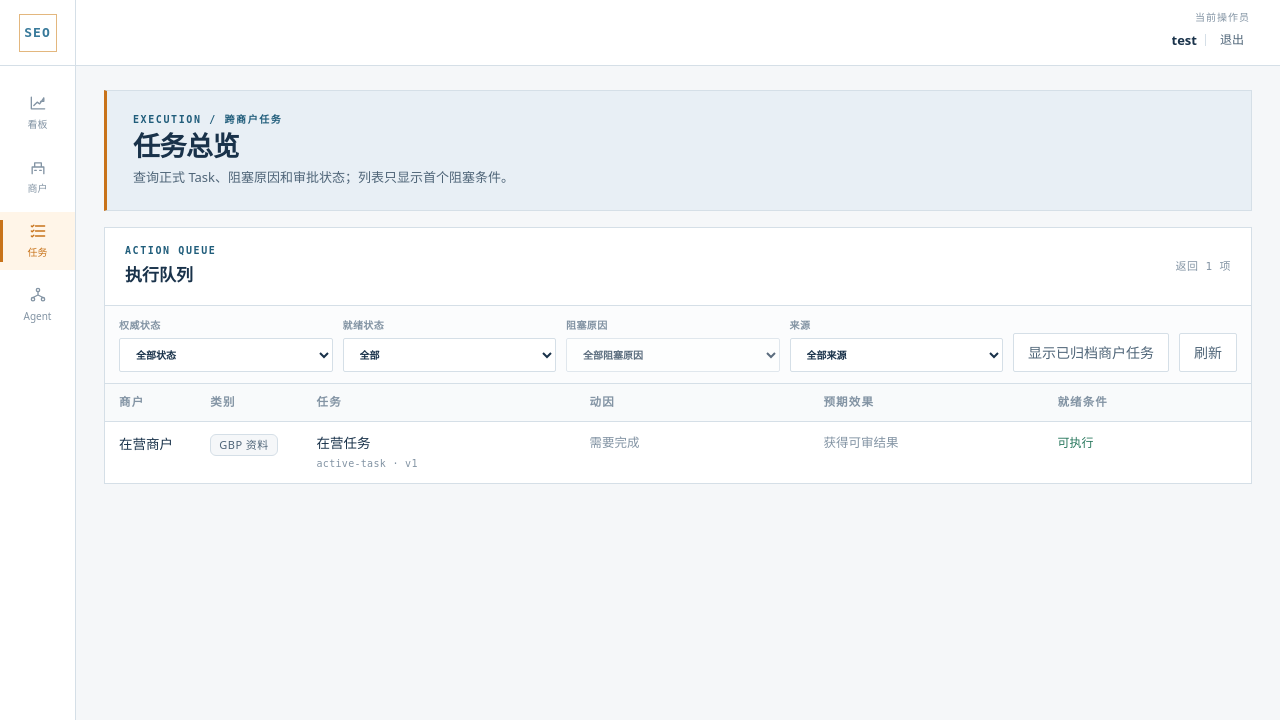
merchant lifecycle › keeps archived merchant tasks out of the active queue until explicitly included
Check: the link "在营任务" is shown, box [316,434,370,452]
Check: the text "已冻结任务" is not shown
Click the button "显示已归档商户任务" at coordinates (1091, 352), box [1013,333,1169,372]
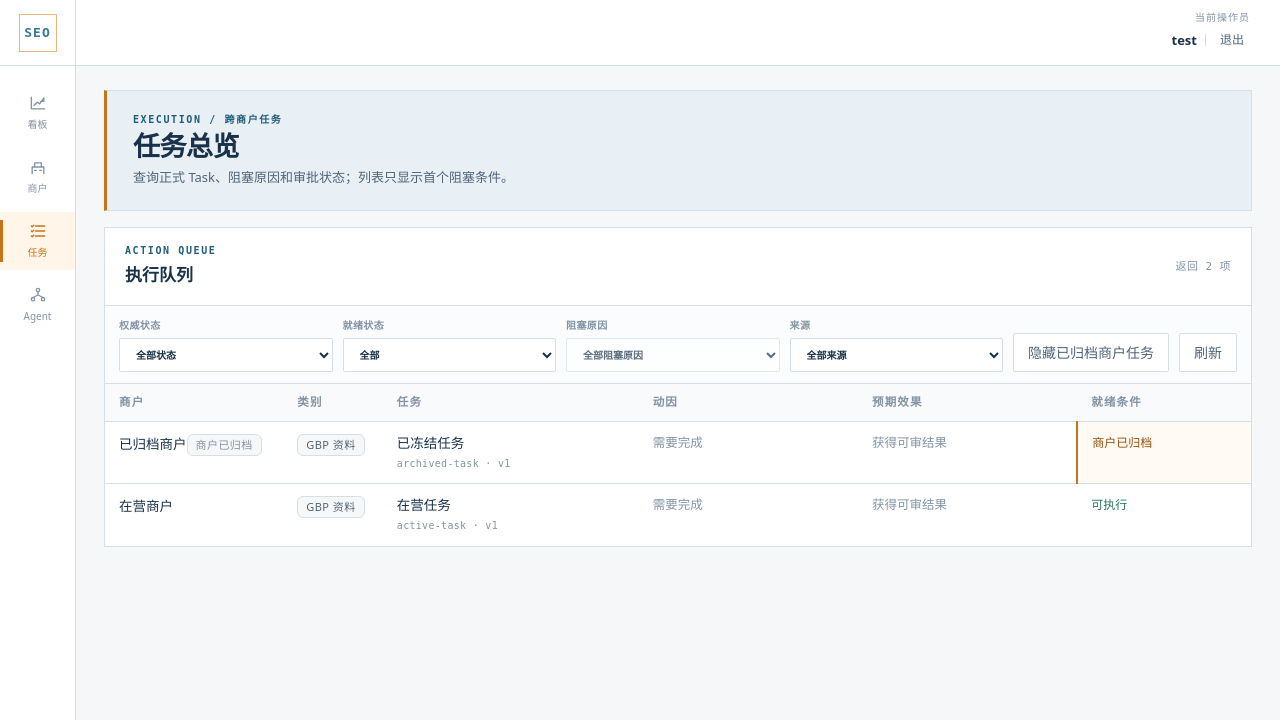
Check: the link "已冻结任务" is shown, box [397,434,464,452]
